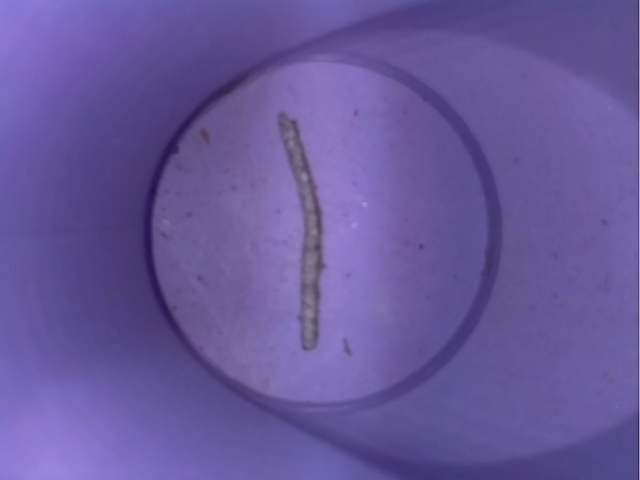ecorce: (255, 106, 338, 356)
